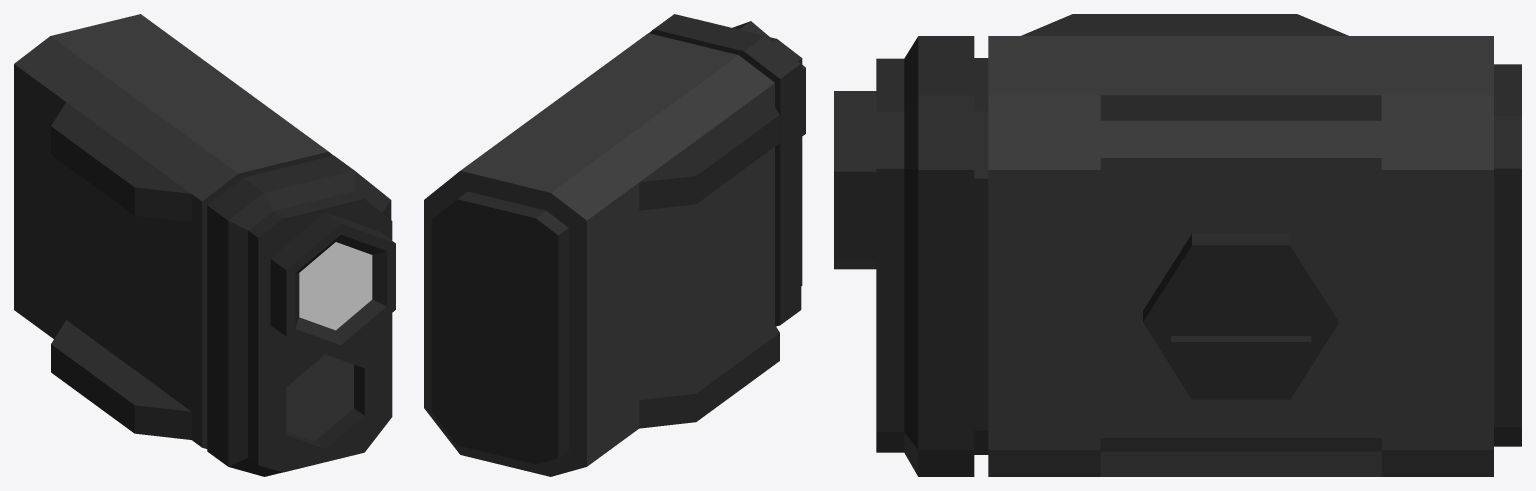
Rendered from Light_C_Left.fbx.
The picture shows the model from 3 angles, left to right: view 1: azimuth 30°, elevation 25°; view 2: azimuth 150°, elevation 25°; view 3: azimuth 270°, elevation 25°; orthographic projection. The views are drawn at different scales.
Parts seen in each view (by area): view 1: Light_C_Left; view 2: Light_C_Left; view 3: Light_C_Left.
Part boxes in pixels (bbox=[...]): Light_C_Left: bbox=[14, 14, 395, 476]; Light_C_Left: bbox=[424, 14, 805, 476]; Light_C_Left: bbox=[834, 14, 1521, 476].
Size of the model in its own units: 0.0275 by 0.0375 by 0.0613.
